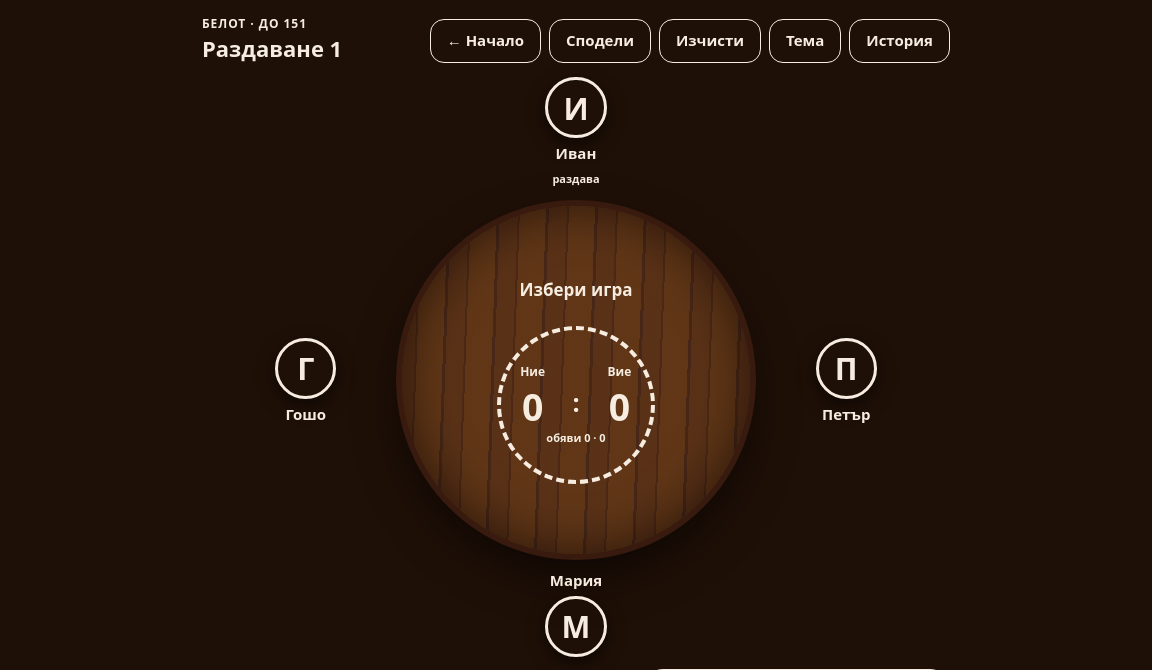
it: Declarations popover › opens with a blocking message and no buttons when there is no contract
Click the button named "Иван": (576, 108) [545,77,607,138]
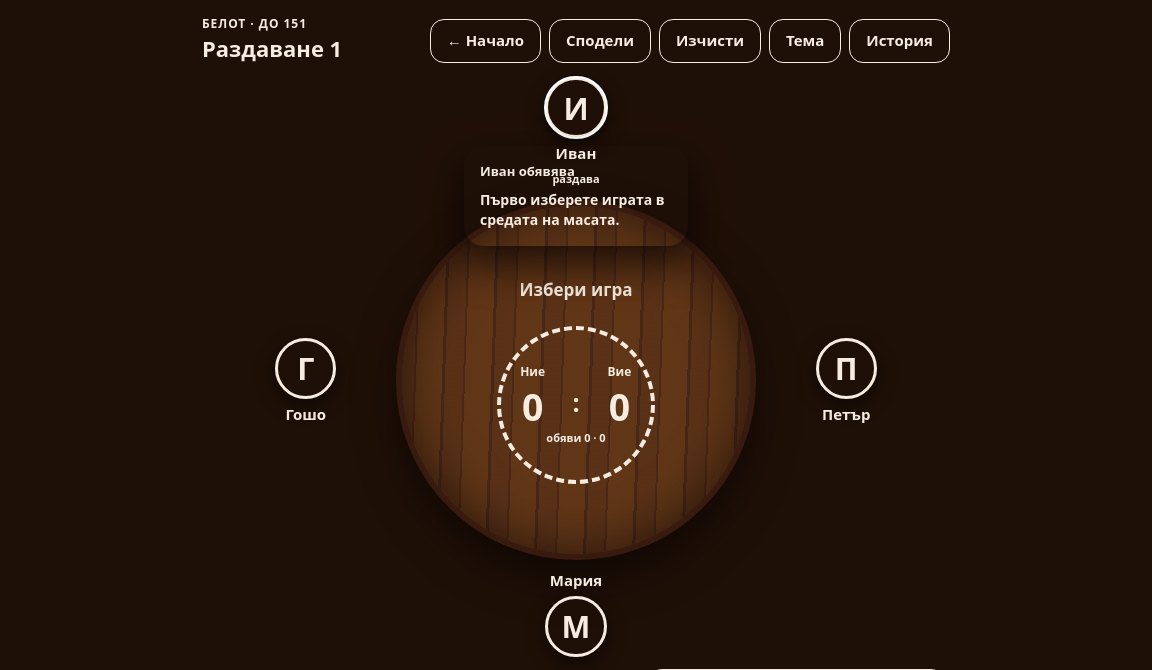
Expected: the text "Иван обявява" is shown, [480,162,575,180]
Expected: the text "Първо изберете играта в средата на масата." is shown, [476,186,676,234]
